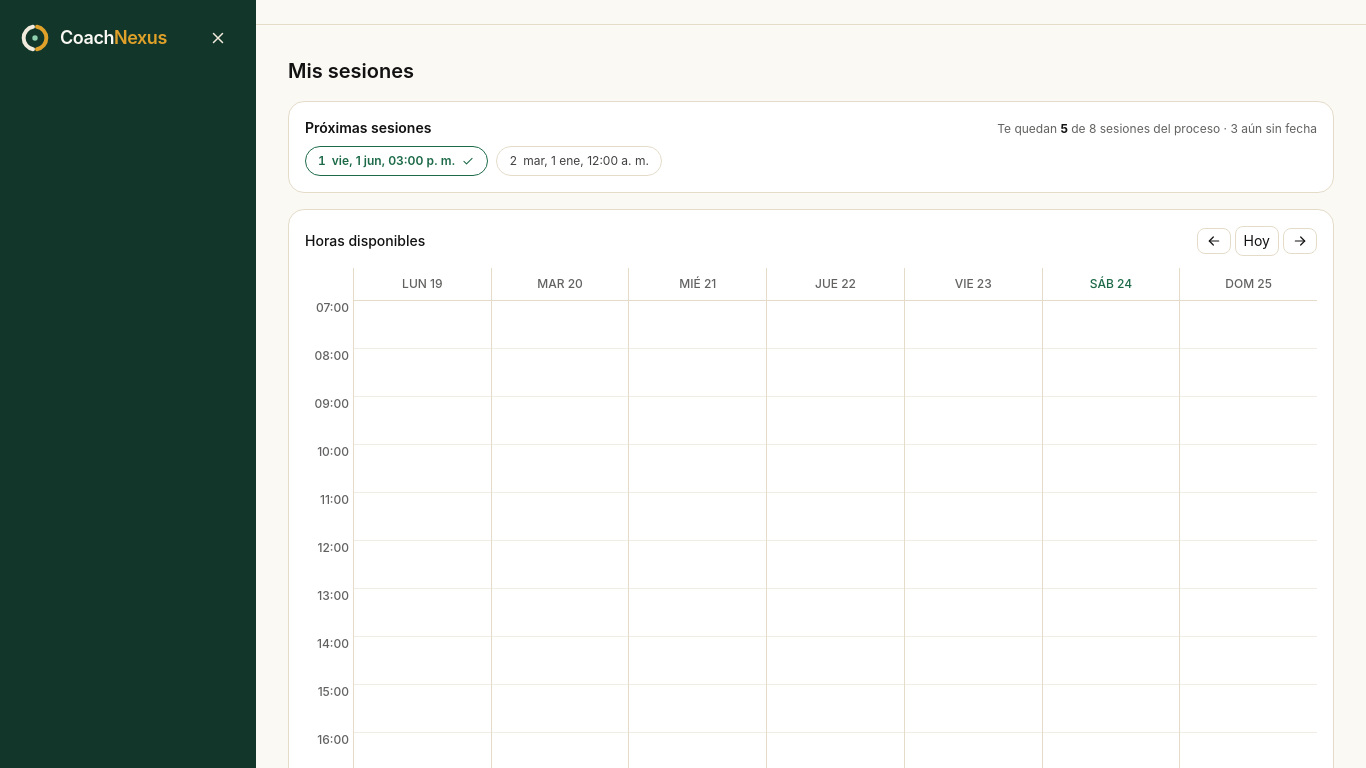
it: SesionesView › summarizes the upcoming sessions and the ones still without a date, and jumps to the agenda on click
Check: the element named "Próximas sesiones" shows "Te quedan 5 de 8 sesiones del proceso", box [288,101,1334,193]
Check: the element named "Próximas sesiones" shows "3 aún sin fecha", box [1220,121,1317,136]
Click the button "1 vie, 1 jun, 03:00 p. m." at (397, 161), box [305,146,488,176]
(page scrolled)
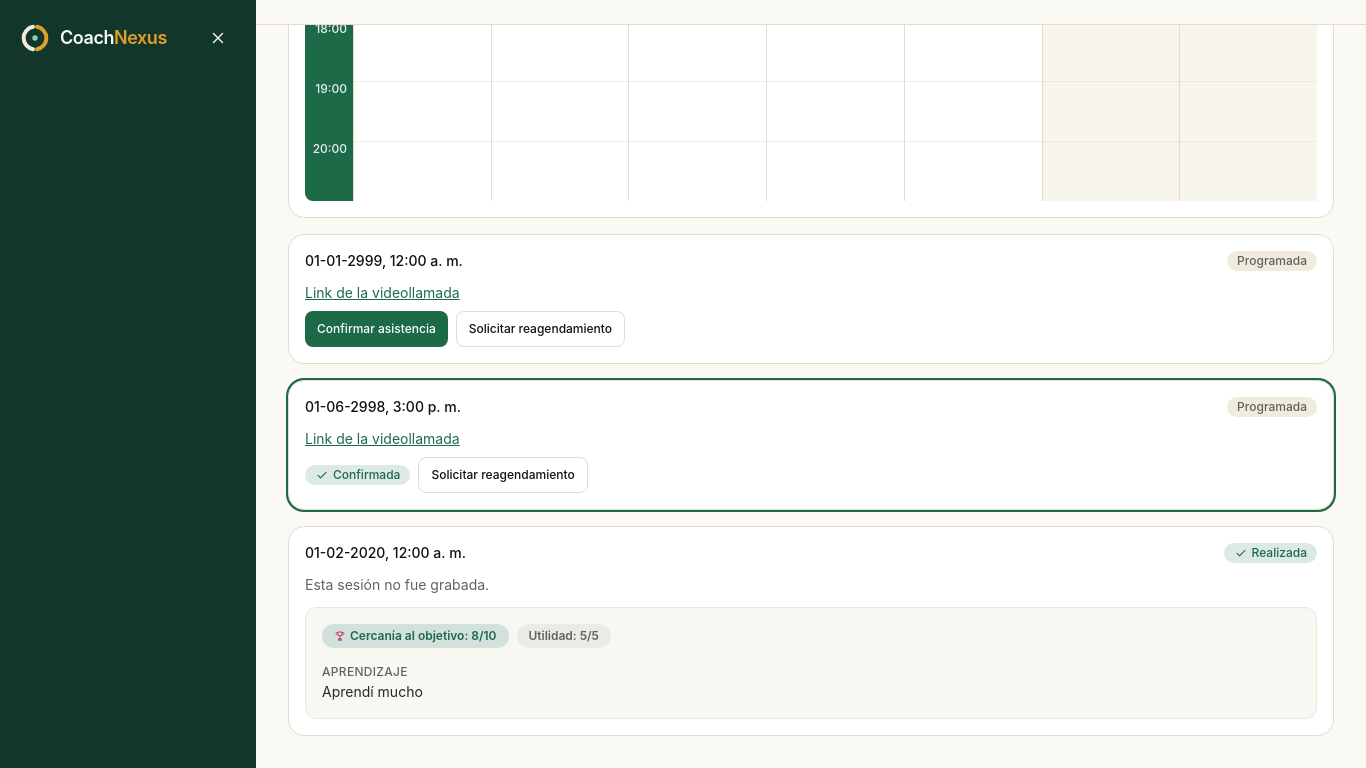
Check: the element with class "ring-2" is shown, box [288,380,1334,510]
